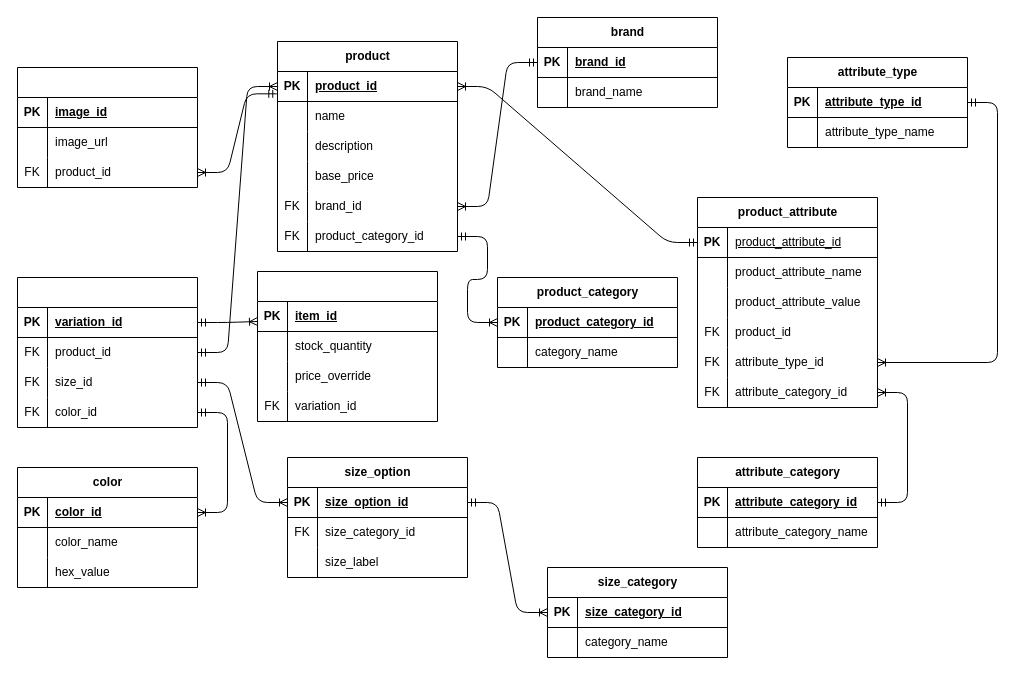
The diagram is 1024 pixels wide and 675 high, and some of its shapes have lost their labels. The shapes that lost their labels are listed below. From the top down, each one's box as (x1, y1, x2, y2) in pixels, then its label:
(16, 66, 198, 188): product_image
(16, 276, 198, 428): product_variation
(256, 270, 438, 422): product_item
